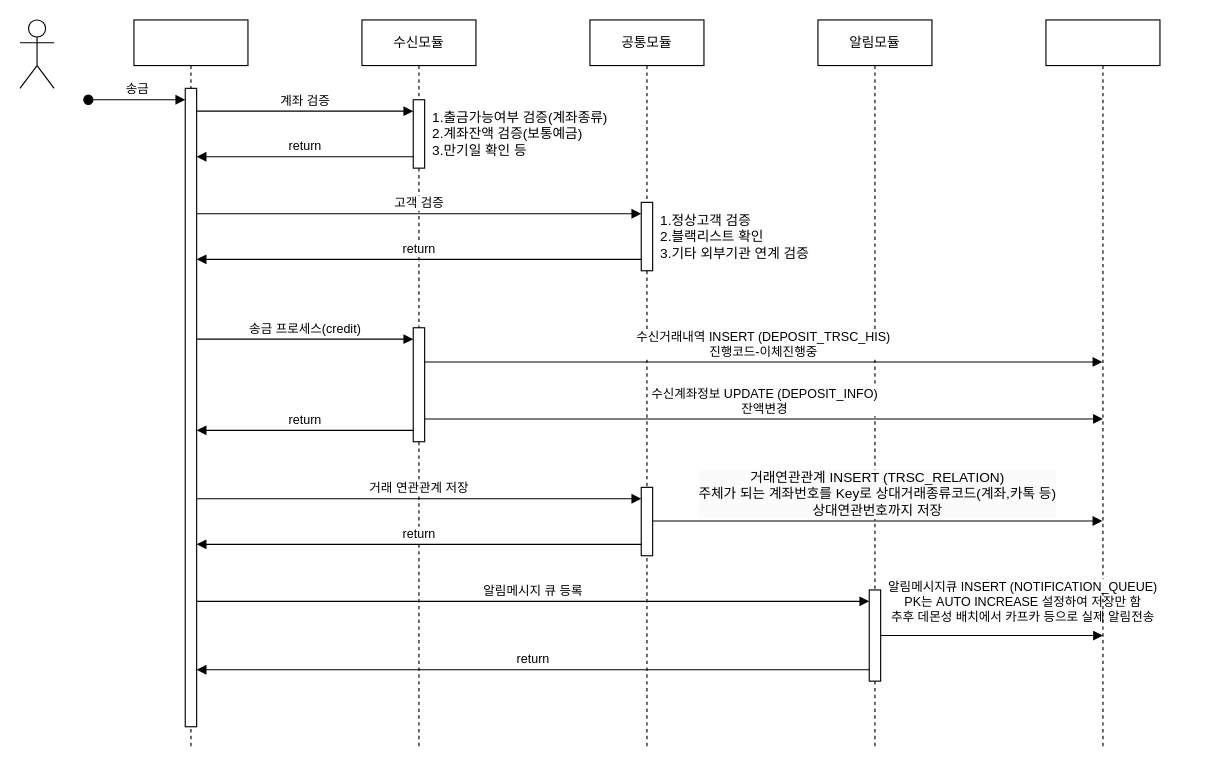
This 1214x770 diagram has some shape labels left out. The box of each missing label's shape, as (x1, y1, x2, y2) in pixels:
레포지토리: (1045, 19, 1160, 750)
송금 서비스: (133, 19, 248, 750)
